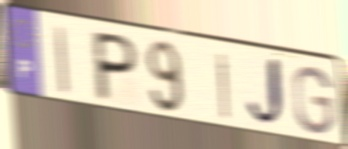9: (143, 37, 185, 116)
G: (291, 64, 336, 137)
I: (53, 23, 72, 99), (215, 49, 232, 123)
J: (243, 54, 288, 131)
P: (93, 28, 141, 105)
